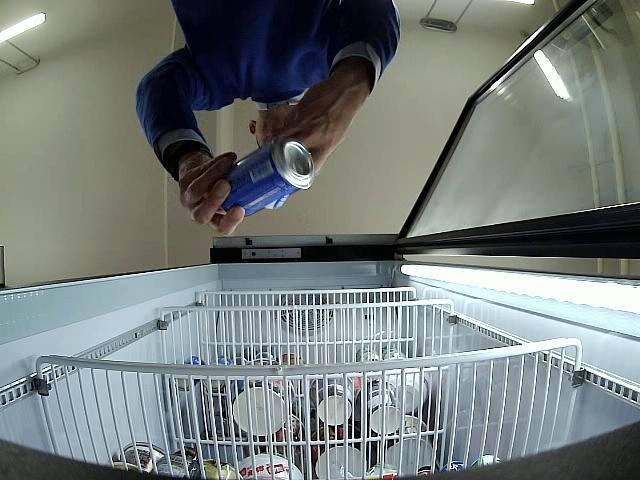13_pocariSweat: (220, 138, 314, 218)
